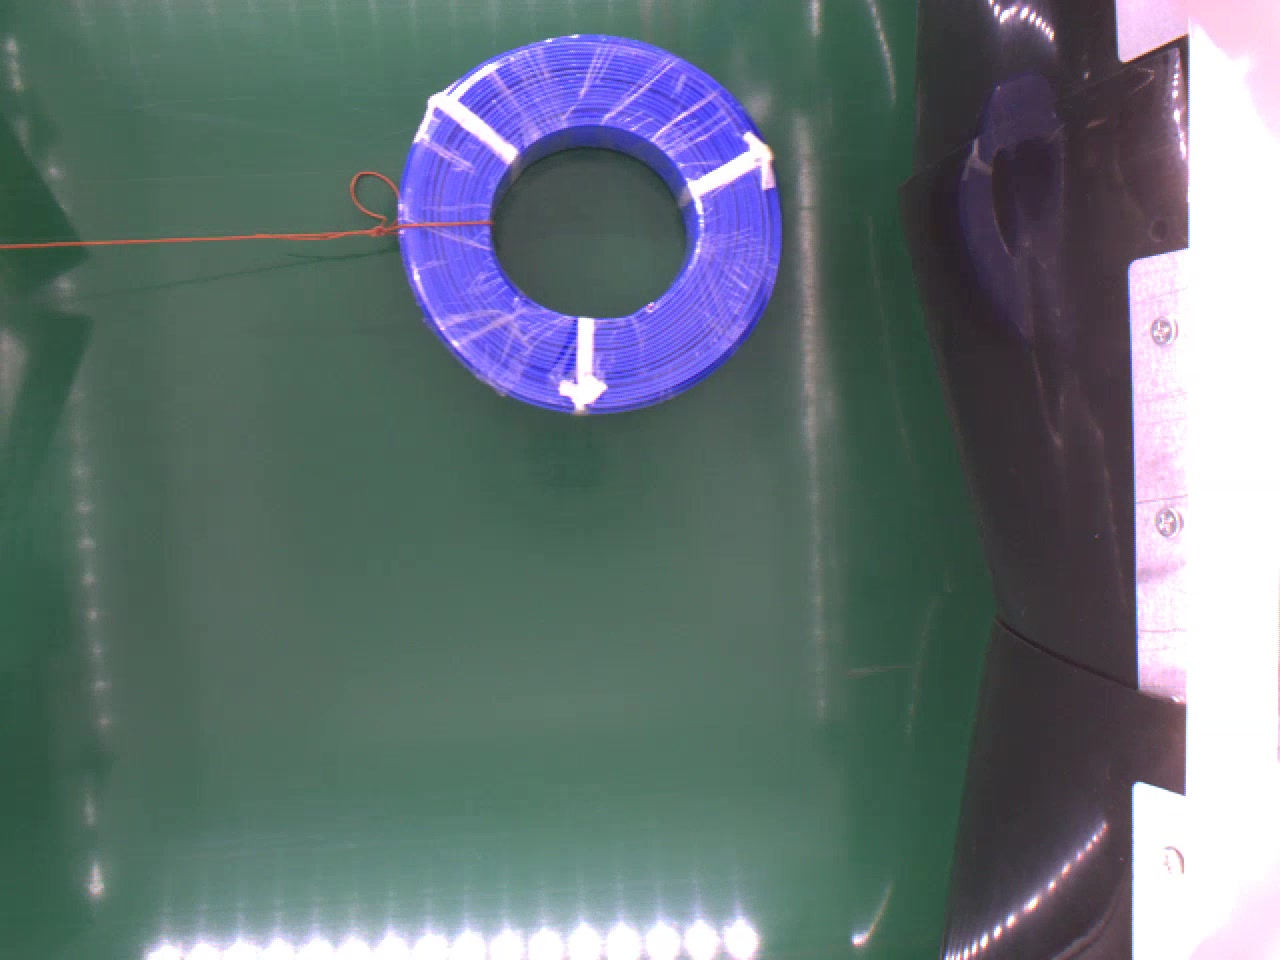blue: (396, 27, 785, 411)
